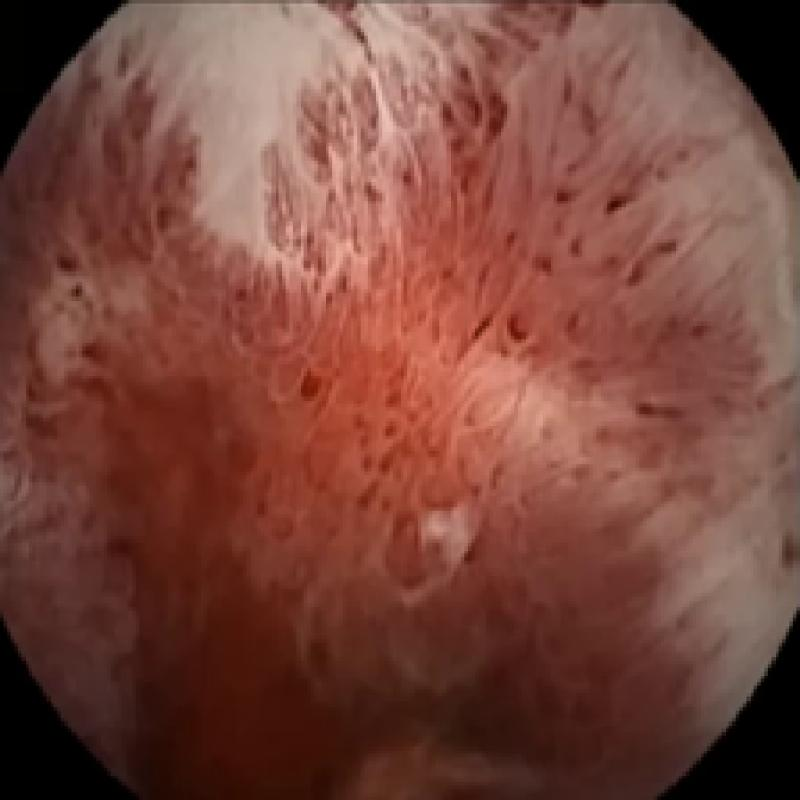bleeding: (46, 135, 771, 800)
